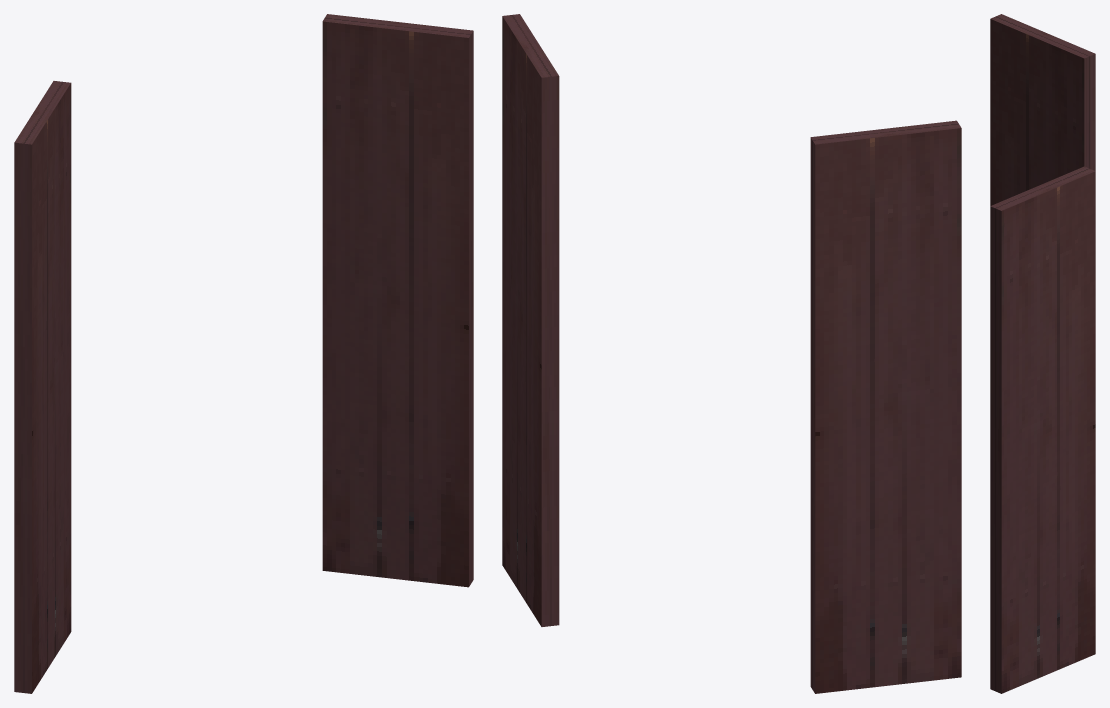
The model's file is shutters_single_open_02.glb.
3 views of the same model, side by side, from view 1: azimuth 30°, elevation 25°; view 2: azimuth 150°, elevation 25°; view 3: azimuth 270°, elevation 25° (orthographic). The views are drawn at different scales.
Parts seen in each view (by area): view 1: shutters_single_open_022; view 2: shutters_single_open_022; view 3: shutters_single_open_022.
Boxes of the visible parts, x1=… form: shutters_single_open_022: x1=14, y1=14, x2=473, y2=693; shutters_single_open_022: x1=502, y1=14, x2=961, y2=693; shutters_single_open_022: x1=990, y1=14, x2=1095, y2=693.
Bounding box in the file's own units: 1.75 × 2 × 0.396.
Materials: 1 (1 with a texture image).
